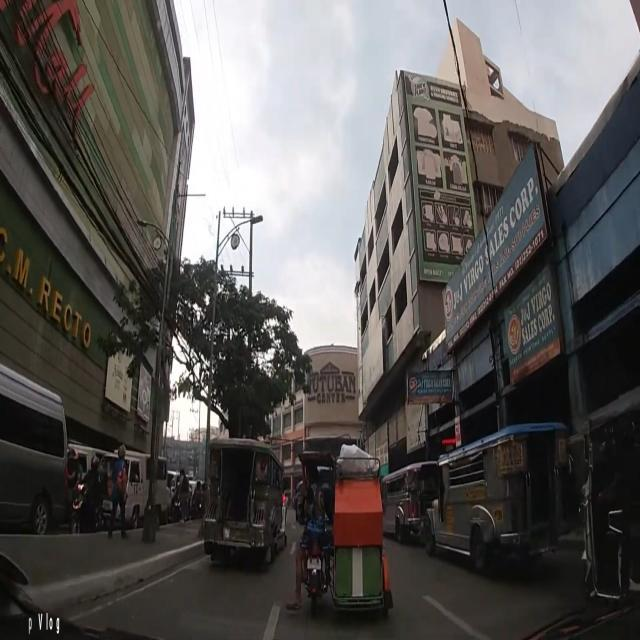car: (0, 362, 67, 528)
jeepney: (434, 425, 569, 576), (202, 437, 286, 567), (383, 462, 439, 547)
motorcycle: (72, 455, 108, 532), (190, 481, 203, 518)
tricycle: (294, 443, 392, 620), (581, 388, 640, 607)
truck: (97, 448, 168, 529)
